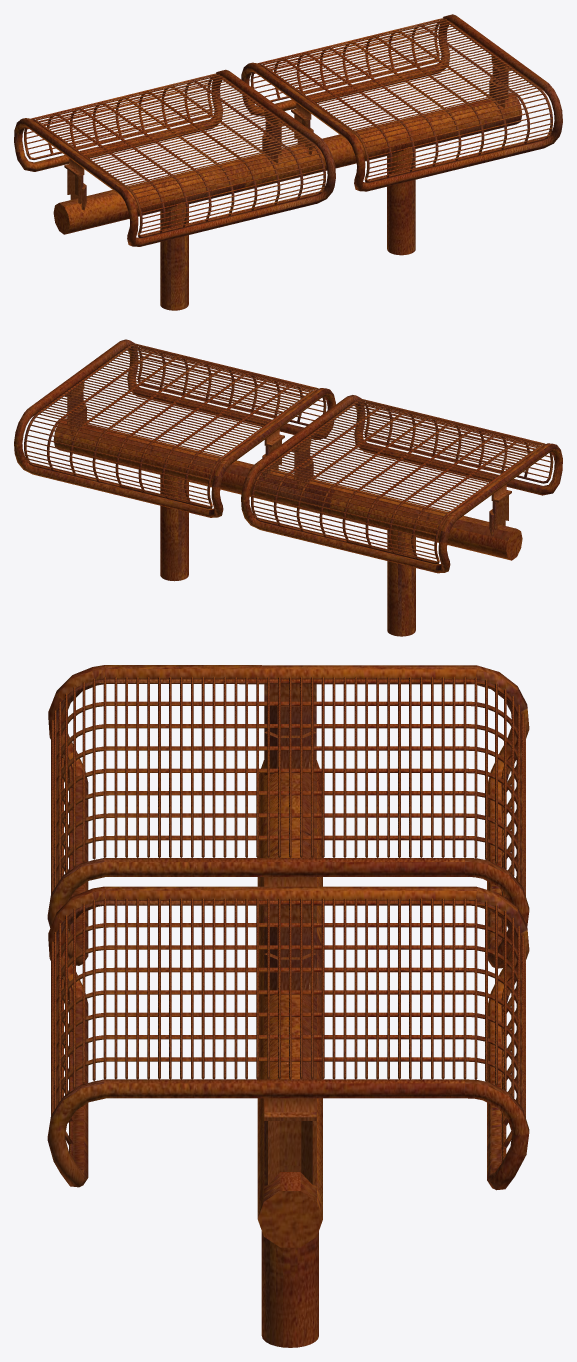
3 renders of one model, top to bottom at view 1: azimuth 30°, elevation 25°; view 2: azimuth 150°, elevation 25°; view 3: azimuth 270°, elevation 25°, orthographic. The views are drawn at different scales.
Visible parts, largest first — view 1: mesh1_mesh1-geometry, mesh15_mesh15-geometry, mesh18_mesh18-geometry, mesh6_mesh6-geometry, mesh17_mesh17-geometry, mesh16_mesh16-geometry, mesh7_mesh7-geometry, mesh9_mesh9-geometry, mesh13_mesh13-geometry, mesh4_mesh4-geometry, mesh11_mesh11-geometry; view 2: mesh1_mesh1-geometry, mesh15_mesh15-geometry, mesh18_mesh18-geometry, mesh6_mesh6-geometry, mesh17_mesh17-geometry, mesh16_mesh16-geometry, mesh7_mesh7-geometry, mesh9_mesh9-geometry, mesh13_mesh13-geometry, mesh4_mesh4-geometry, mesh11_mesh11-geometry; view 3: mesh1_mesh1-geometry, mesh15_mesh15-geometry, mesh6_mesh6-geometry, mesh18_mesh18-geometry, mesh16_mesh16-geometry, mesh7_mesh7-geometry, mesh13_mesh13-geometry, mesh11_mesh11-geometry, mesh4_mesh4-geometry.
Boxes of the visible parts, x1,y1,x2,y2 form: mesh1_mesh1-geometry: [26, 18, 552, 236]; mesh15_mesh15-geometry: [14, 14, 562, 246]; mesh18_mesh18-geometry: [53, 92, 522, 234]; mesh6_mesh6-geometry: [47, 25, 529, 232]; mesh17_mesh17-geometry: [160, 202, 188, 310]; mesh16_mesh16-geometry: [387, 147, 415, 255]; mesh7_mesh7-geometry: [24, 64, 456, 237]; mesh9_mesh9-geometry: [122, 19, 552, 216]; mesh13_mesh13-geometry: [67, 64, 508, 203]; mesh4_mesh4-geometry: [70, 78, 505, 210]; mesh11_mesh11-geometry: [64, 57, 510, 176]; mesh1_mesh1-geometry: [24, 343, 550, 562]; mesh15_mesh15-geometry: [14, 339, 562, 573]; mesh18_mesh18-geometry: [53, 418, 522, 560]; mesh6_mesh6-geometry: [47, 350, 529, 559]; mesh17_mesh17-geometry: [387, 528, 415, 636]; mesh16_mesh16-geometry: [160, 472, 188, 581]; mesh7_mesh7-geometry: [121, 389, 553, 564]; mesh9_mesh9-geometry: [24, 345, 455, 542]; mesh13_mesh13-geometry: [67, 390, 508, 529]; mesh4_mesh4-geometry: [70, 404, 505, 536]; mesh11_mesh11-geometry: [65, 382, 511, 502]; mesh1_mesh1-geometry: [51, 677, 525, 1117]; mesh15_mesh15-geometry: [47, 665, 529, 1190]; mesh6_mesh6-geometry: [56, 701, 521, 1147]; mesh18_mesh18-geometry: [257, 760, 322, 1247]; mesh16_mesh16-geometry: [261, 1231, 318, 1347]; mesh7_mesh7-geometry: [56, 679, 521, 1078]; mesh13_mesh13-geometry: [264, 706, 316, 1174]; mesh11_mesh11-geometry: [264, 684, 316, 1120]; mesh4_mesh4-geometry: [264, 731, 316, 1185].
Bounding box in the file's own units: 0.8608 × 0.3189 × 0.3967.
